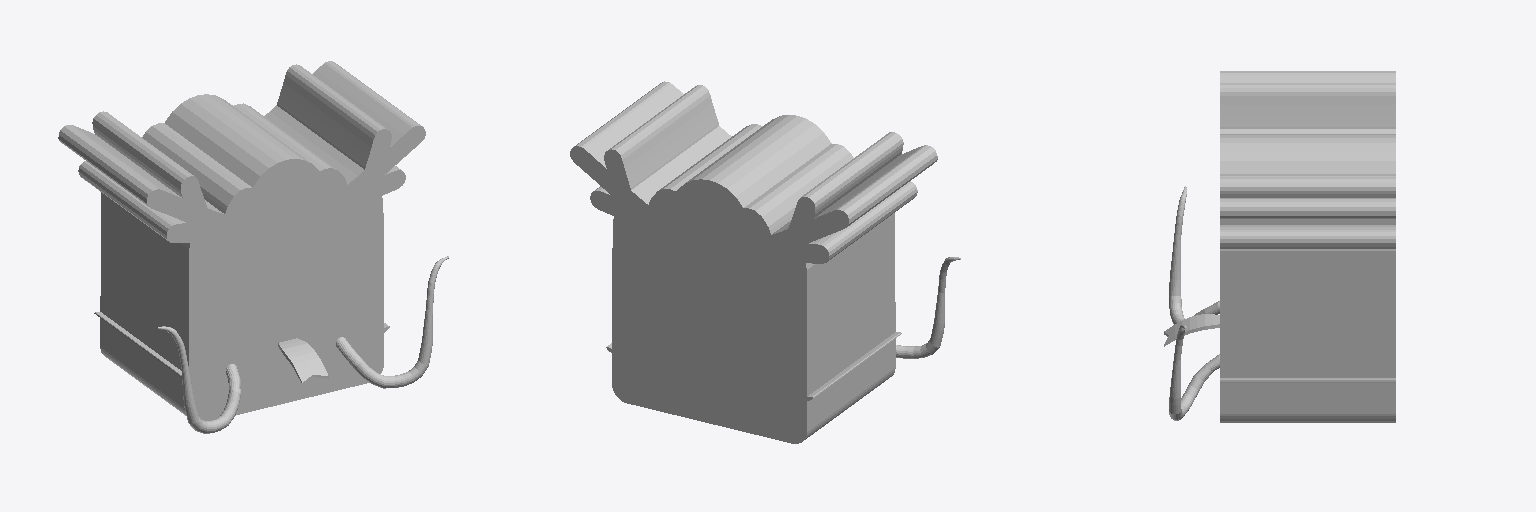
The model's file is Dragon.obj.
3 views of the same model, side by side, from view 1: azimuth 30°, elevation 25°; view 2: azimuth 150°, elevation 25°; view 3: azimuth 270°, elevation 25° (orthographic).
Visible parts, largest first — view 1: dragon; view 2: dragon; view 3: dragon.
Part boxes in pixels (x1,y1,x2,y2): dragon: (58,61,448,433); dragon: (570,81,960,443); dragon: (1164,71,1395,422).
Bounding box in the file's own units: 8.05 × 6.6 × 5.56.